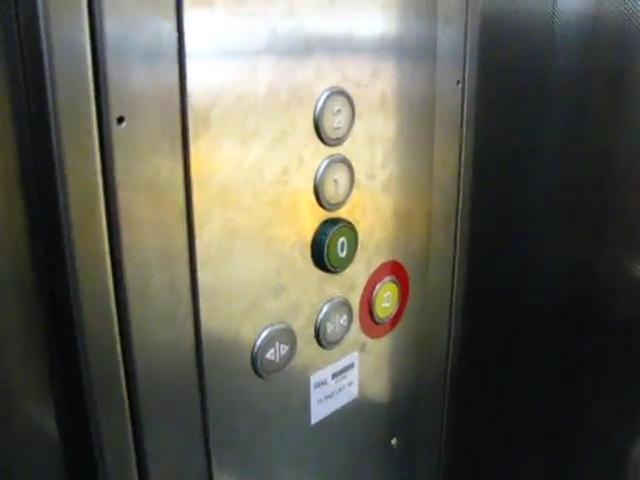0: (310, 216, 360, 277)
1: (314, 151, 355, 212)
2: (312, 84, 359, 147)
alarm: (367, 274, 404, 328)
close: (314, 296, 353, 352)
open: (245, 320, 297, 382)
